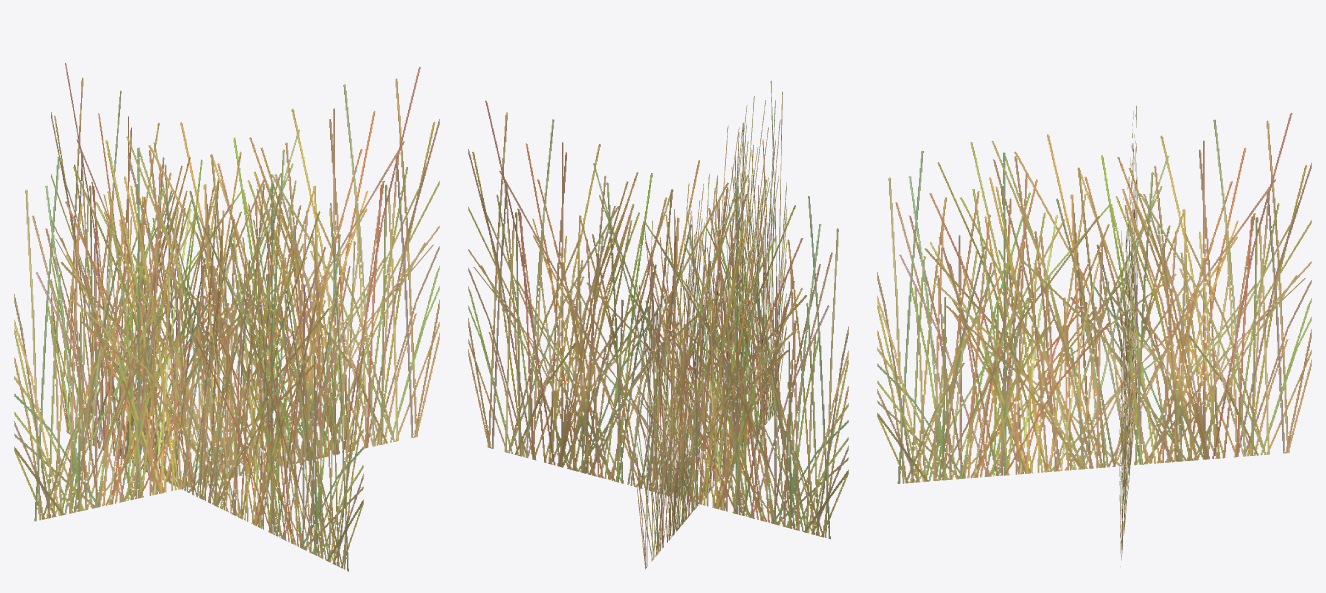
File: Grass_Wispy_Tall_LOD2.gltf
3 views of the same model, side by side, from view 1: azimuth 30°, elevation 25°; view 2: azimuth 150°, elevation 25°; view 3: azimuth 270°, elevation 25° (orthographic). The views are drawn at different scales.
Visible parts, largest first — view 1: Grass_Wispy_Tall_LOD2; view 2: Grass_Wispy_Tall_LOD2; view 3: Grass_Wispy_Tall_LOD2.
Boxes of the visible parts, x1,y1,x2,y2 form: Grass_Wispy_Tall_LOD2: (14,63,439,571); Grass_Wispy_Tall_LOD2: (468,81,848,569); Grass_Wispy_Tall_LOD2: (877,106,1311,566).
Bounding box in the file's own units: 0.8493 × 0.8027 × 0.8354.
Materials: 1 (1 with a texture image).
